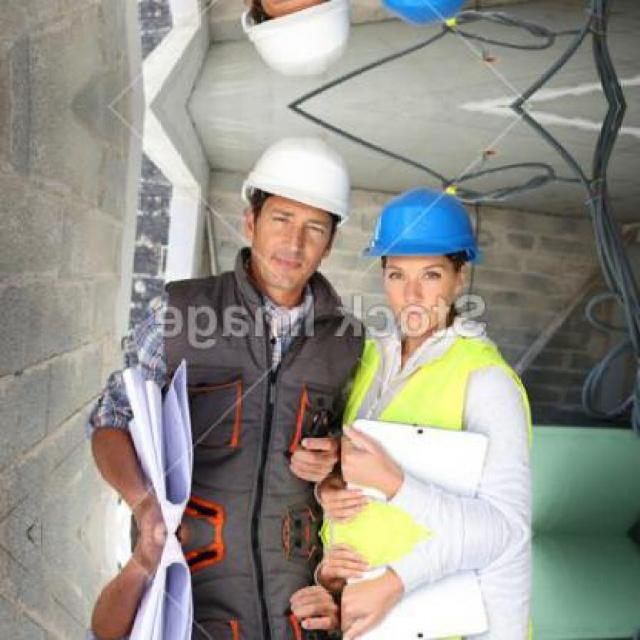Reflective-Jacket: (94, 282, 391, 638), (323, 321, 540, 614)
Safety-Helmet: (357, 179, 494, 277), (231, 128, 360, 231)
